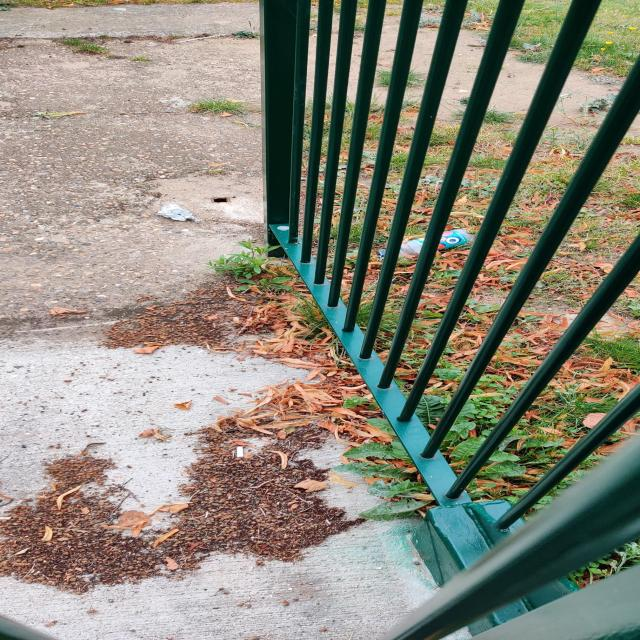litter: (379, 231, 478, 267)
